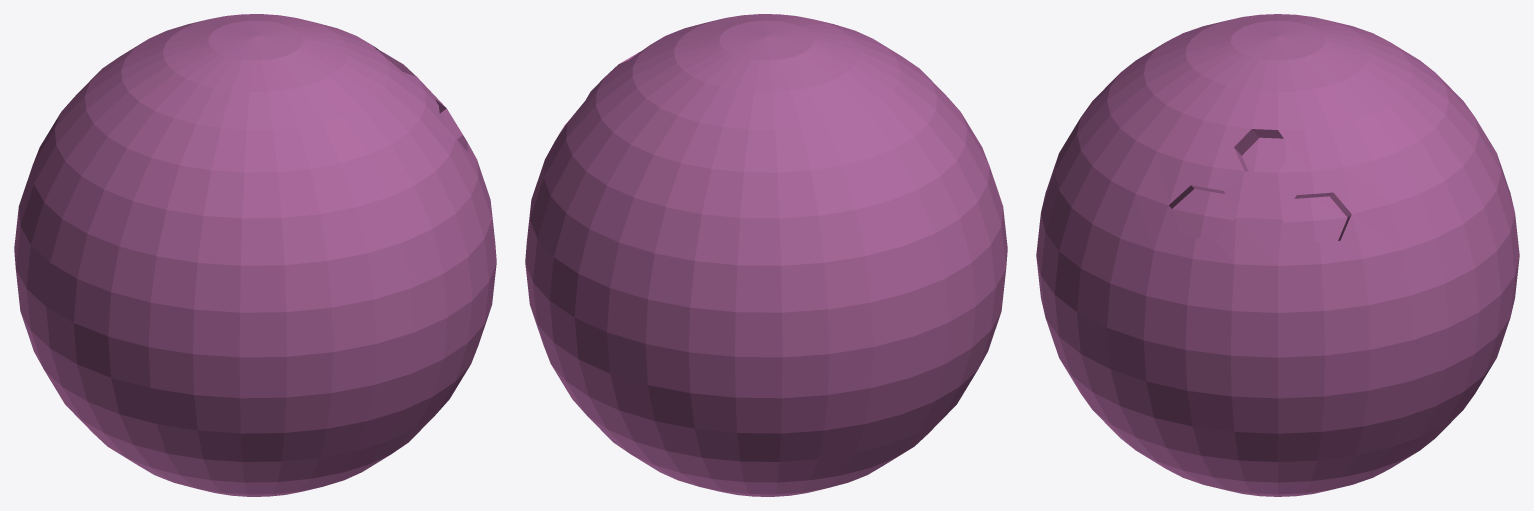
The model's file is ball.gltf.
3 views of the same model, side by side, from view 1: azimuth 30°, elevation 25°; view 2: azimuth 150°, elevation 25°; view 3: azimuth 270°, elevation 25° (orthographic).
Visible parts, largest first — view 1: Sphere; view 2: Sphere; view 3: Sphere.
Boxes of the visible parts, x1,y1,x2,y2 form: Sphere: [14, 14, 496, 496]; Sphere: [525, 14, 1007, 496]; Sphere: [1036, 14, 1519, 496].
Bounding box in the file's own units: 2 × 2 × 2.
